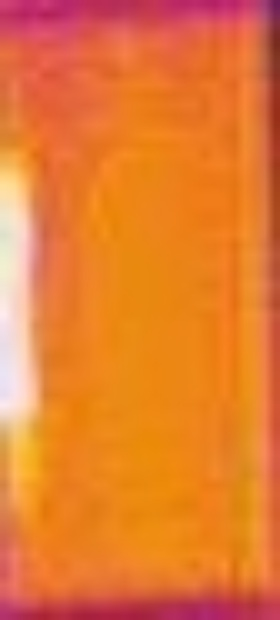Diode: (1, 137, 43, 427)
